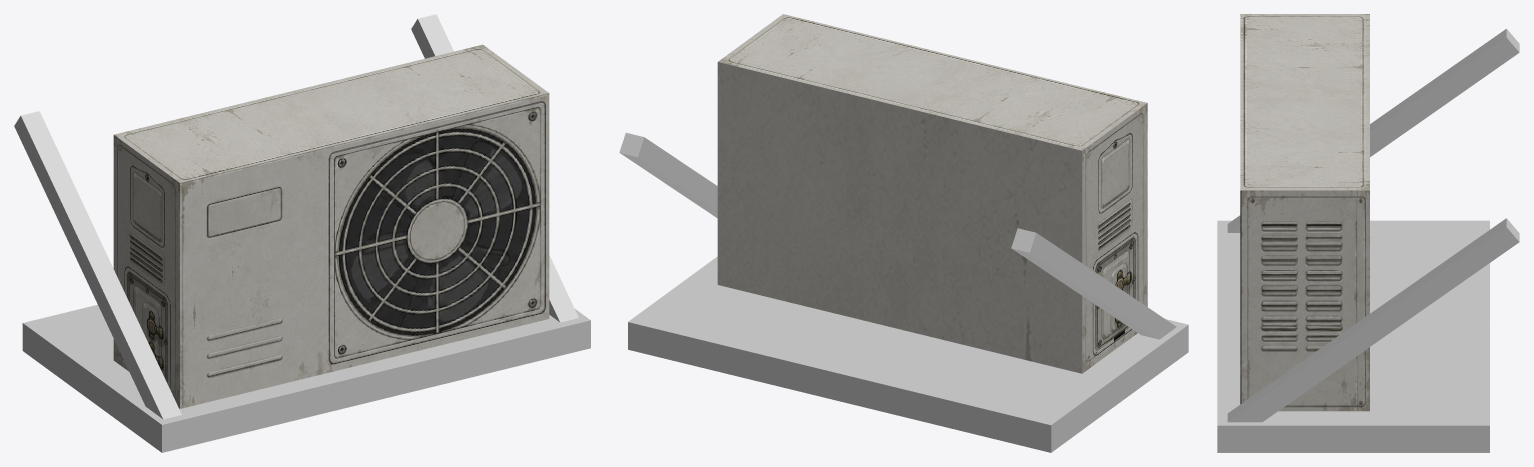
Rendered from 벽 에어컨 실외기.fbx.
3 views of the same model, side by side, from view 1: azimuth 30°, elevation 25°; view 2: azimuth 150°, elevation 25°; view 3: azimuth 270°, elevation 25° (orthographic). The views are drawn at different scales.
Parts seen in each view (by area): view 1: 벽_에어컨_실외기_1; view 2: 벽_에어컨_실외기_1; view 3: 벽_에어컨_실외기_1.
Boxes of the visible parts, x1,y1,x2,y2 form: 벽_에어컨_실외기_1: [14, 14, 590, 452]; 벽_에어컨_실외기_1: [619, 14, 1188, 452]; 벽_에어컨_실외기_1: [1217, 14, 1519, 452].
Bounding box in the file's own units: 51.2 × 28.98 × 31.94.
1 material, 1 textured.
